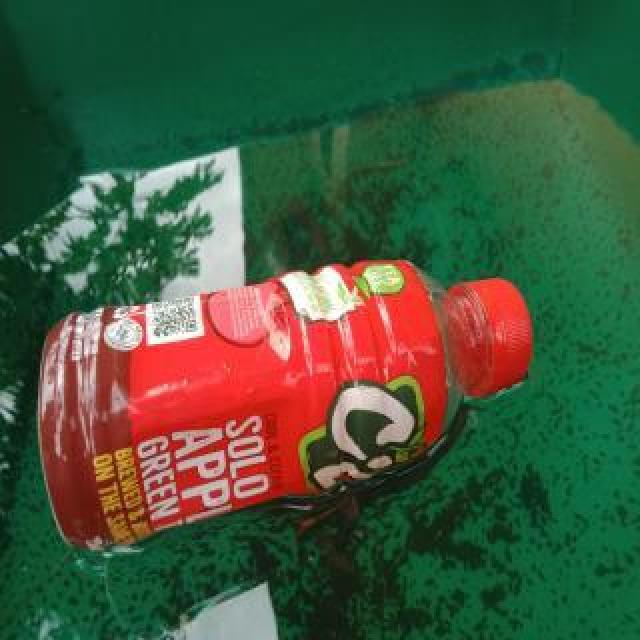bottle: (34, 256, 536, 554)
